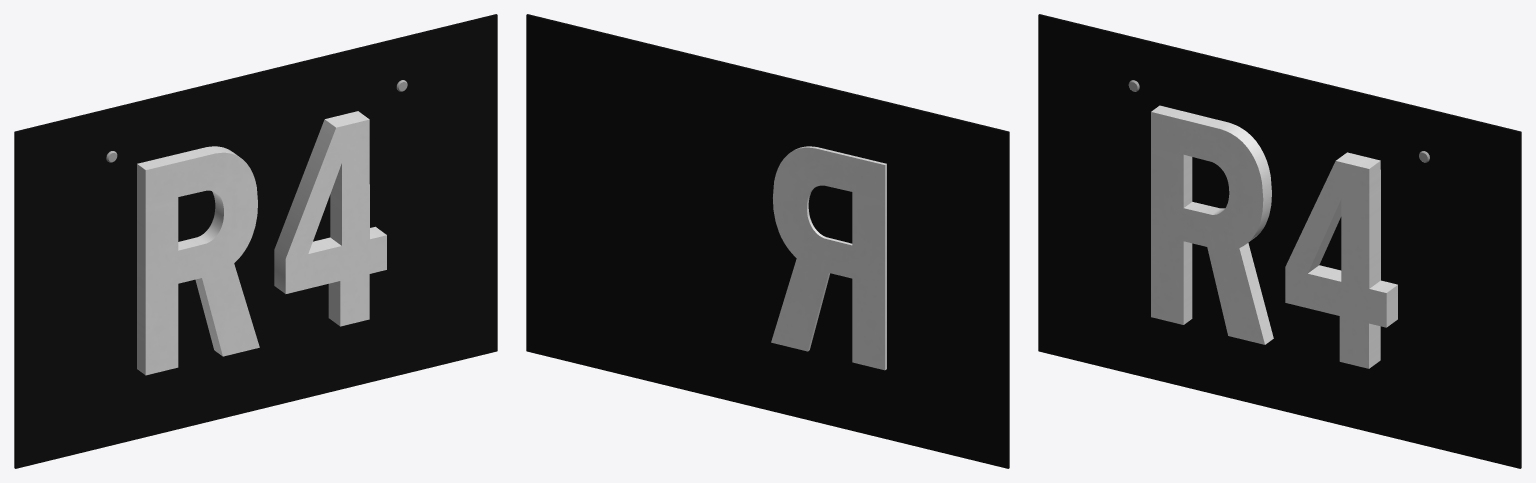
File: room_plate4.glb
The picture shows the model from 3 angles, left to right: view 1: azimuth 30°, elevation 25°; view 2: azimuth 150°, elevation 25°; view 3: azimuth 330°, elevation 25°; orthographic projection.
Parts seen in each view (by area): view 1: NumberPlateTwoRow_38, Object_18, Object_58; view 2: NumberPlateTwoRow_38, Object_18; view 3: NumberPlateTwoRow_38, Object_18, Object_58.
Part boxes in pixels (box(x1,y1,x2,y2)): NumberPlateTwoRow_38: box(14, 14, 497, 468); Object_18: box(137, 146, 259, 375); Object_58: box(274, 111, 386, 326); NumberPlateTwoRow_38: box(526, 14, 1009, 468); Object_18: box(771, 146, 886, 370); NumberPlateTwoRow_38: box(1038, 14, 1521, 468); Object_18: box(1151, 105, 1273, 344); Object_58: box(1285, 152, 1397, 368).
Size of the model in its own units: 0.2181 by 0.1454 by 0.0116.
Materials: 2 (2 with a texture image).
